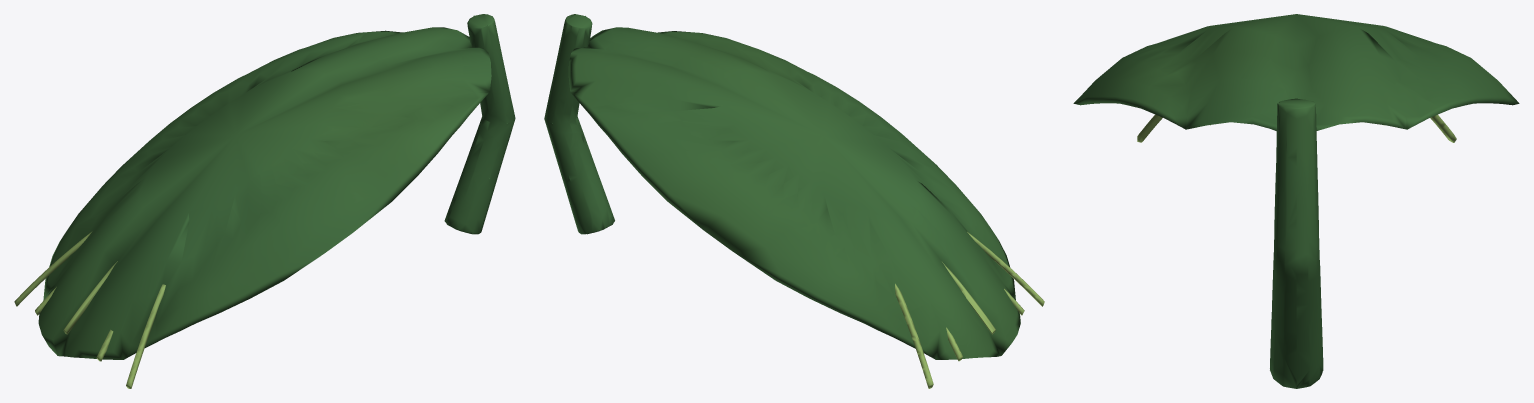
The model's file is mire_hosta_leaf.glb.
3 renders of one model, left to right at view 1: azimuth 30°, elevation 25°; view 2: azimuth 150°, elevation 25°; view 3: azimuth 270°, elevation 25°, orthographic. The views are drawn at different scales.
Visible parts, largest first — view 1: mire_hosta_leaf; view 2: mire_hosta_leaf; view 3: mire_hosta_leaf.
Boxes of the visible parts, box(x1,y1,x2,y2) form: mire_hosta_leaf: box(14, 14, 515, 388); mire_hosta_leaf: box(544, 14, 1044, 388); mire_hosta_leaf: box(1073, 14, 1519, 388).
Size of the model in its own units: 37.85 by 18.53 by 23.15.
